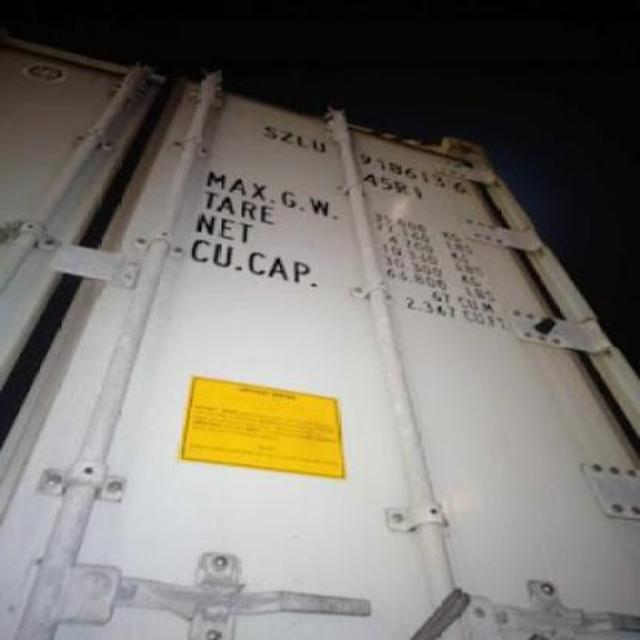1: (376, 152, 389, 168), (418, 168, 430, 182)
3: (430, 172, 450, 186)
6: (454, 174, 474, 196), (408, 163, 420, 181)
9: (358, 148, 376, 168), (391, 154, 404, 172)
L: (294, 126, 310, 150)
S: (256, 112, 280, 146)
U: (310, 130, 328, 150)
Z: (277, 124, 293, 148)
